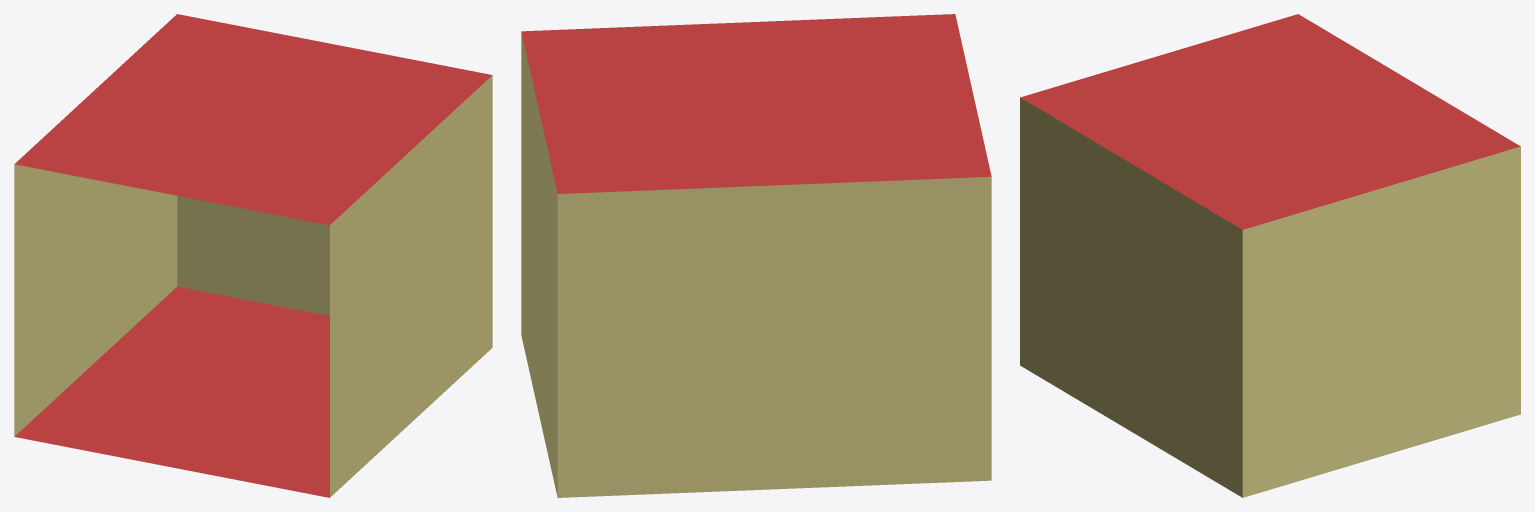
The picture shows the model from 3 angles, left to right: view 1: azimuth 30°, elevation 25°; view 2: azimuth 150°, elevation 25°; view 3: azimuth 270°, elevation 25°; orthographic projection. The views are drawn at different scales.
Size of the model in its own units: 9.91 by 9.71 by 5.73.
